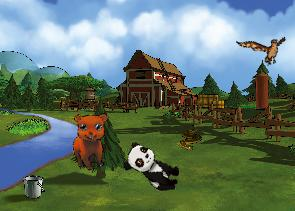bear: (66, 108, 118, 173)
eagle: (236, 23, 293, 74)
panda: (119, 139, 186, 196)
